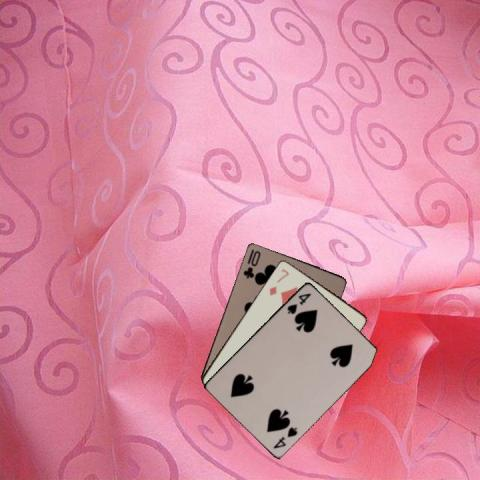10c: (240, 246, 262, 280)
4s: (270, 423, 299, 450), (284, 290, 313, 316)
7d: (266, 265, 290, 297)
